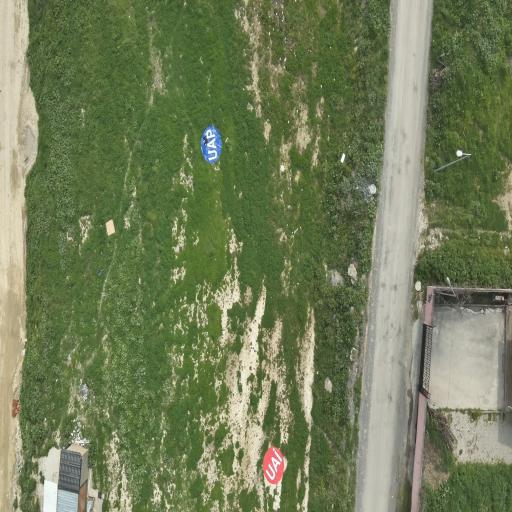UAI: (263, 447, 284, 484)
UAP: (201, 126, 221, 163)
person: (203, 135, 207, 145)
